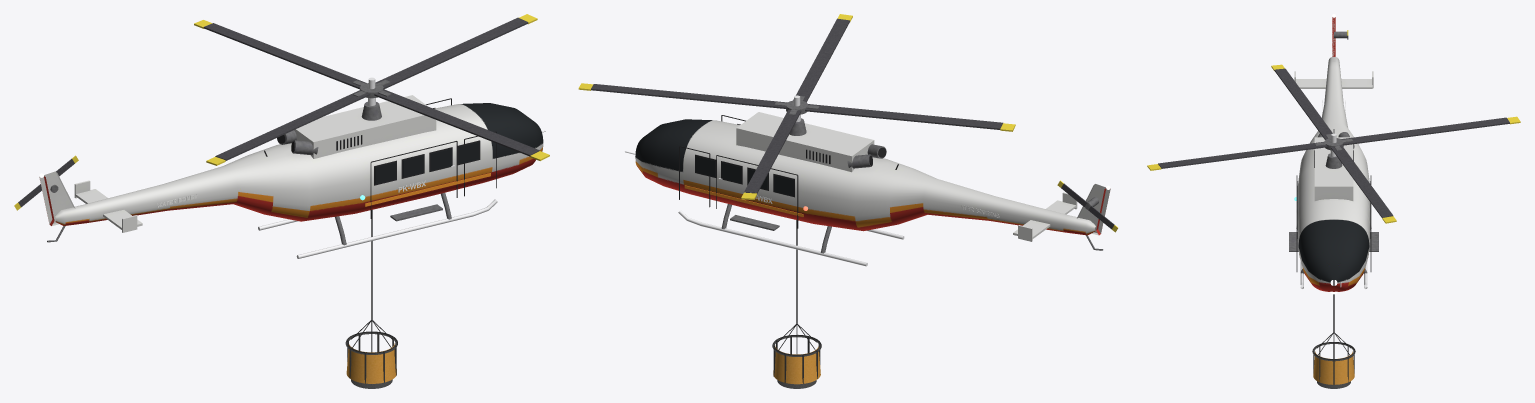
File: heli.glb
The picture shows the model from 3 angles, left to right: view 1: azimuth 30°, elevation 25°; view 2: azimuth 150°, elevation 25°; view 3: azimuth 270°, elevation 25°; orthographic projection. The views are drawn at different scales.
Visible parts, largest first — view 1: AR_heli, ROTOR_main.001; view 2: AR_heli, ROTOR_main.001, ROTOR_tail.001; view 3: AR_heli, ROTOR_main.001.
Boxes of the visible parts, left/top/right/bottom form: AR_heli: left=39, top=95, right=545, bottom=388; ROTOR_main.001: left=194, top=14, right=549, bottom=165; AR_heli: left=625, top=112, right=1110, bottom=388; ROTOR_main.001: left=578, top=14, right=1015, bottom=199; ROTOR_tail.001: left=1057, top=180, right=1117, bottom=232; AR_heli: left=1289, top=14, right=1378, bottom=388; ROTOR_main.001: left=1147, top=64, right=1520, bottom=223.
Size of the model in its own units: 18.7 by 9.85 by 13.5.
1 material, 1 textured.
